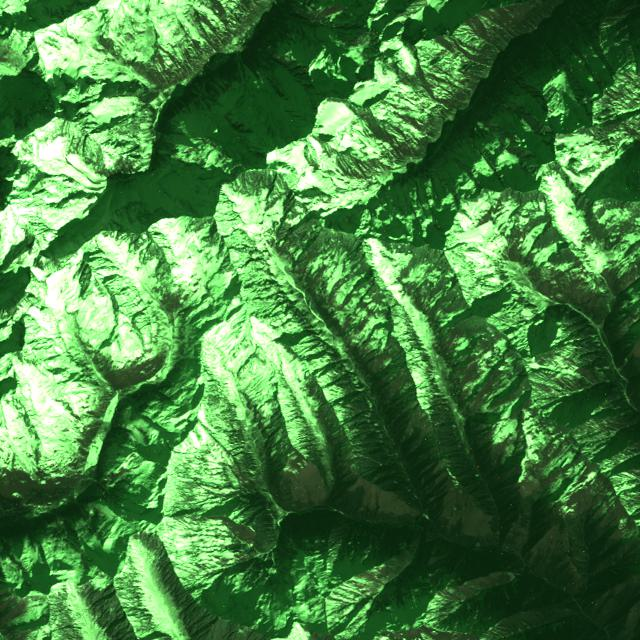landslides: (327, 191, 377, 232), (75, 74, 129, 110), (550, 351, 597, 386), (242, 554, 269, 598), (218, 462, 248, 493), (272, 551, 293, 590), (443, 547, 457, 582), (87, 69, 122, 81), (132, 177, 143, 214), (140, 176, 149, 211), (109, 355, 127, 371), (389, 152, 416, 162), (269, 584, 281, 605), (540, 353, 556, 368), (454, 79, 473, 91), (431, 540, 445, 556), (263, 573, 274, 592), (221, 542, 243, 551), (434, 112, 453, 122), (424, 133, 440, 143), (595, 362, 612, 370), (254, 428, 262, 444), (618, 357, 627, 371), (495, 262, 516, 268), (281, 255, 290, 269), (77, 0, 95, 7), (507, 572, 519, 582), (93, 65, 110, 72), (521, 620, 532, 630)
